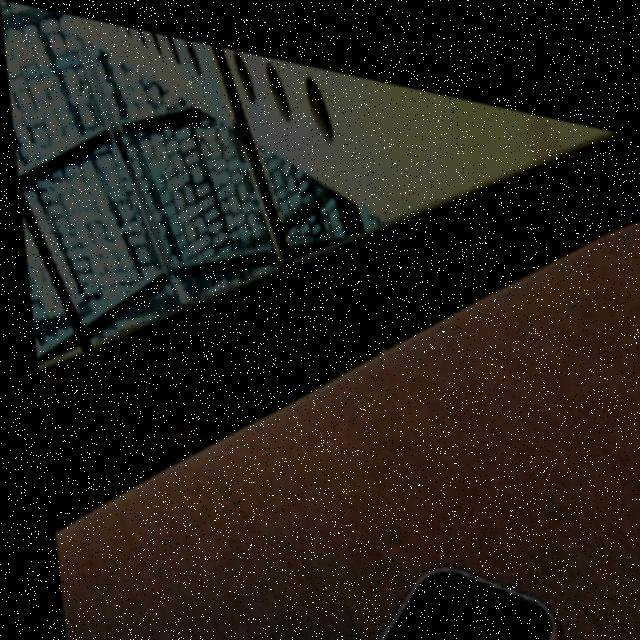adapter: (332, 527, 584, 640)
